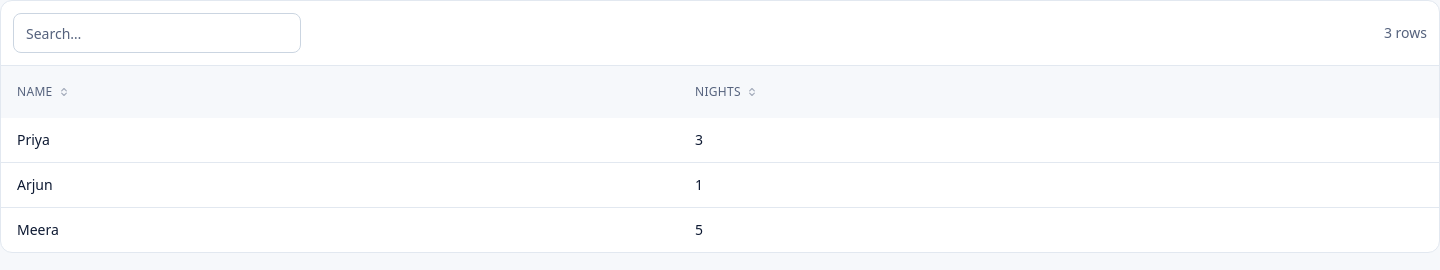
Test case: DataTable › filters rows as you type
This screenshot has width=1440, height=270.
Type "mee" into the search field named "search the table" at x=157, y=33, box [13,13,301,53]
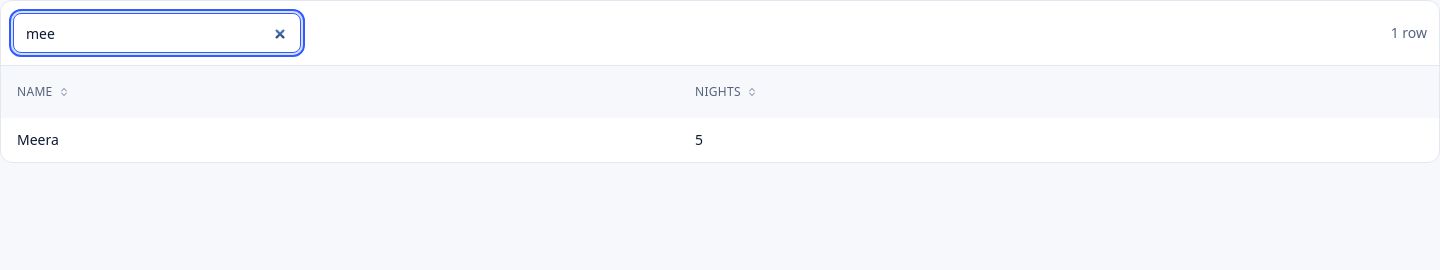
Now the text "1 row" is shown, box [1391,23,1427,43]
